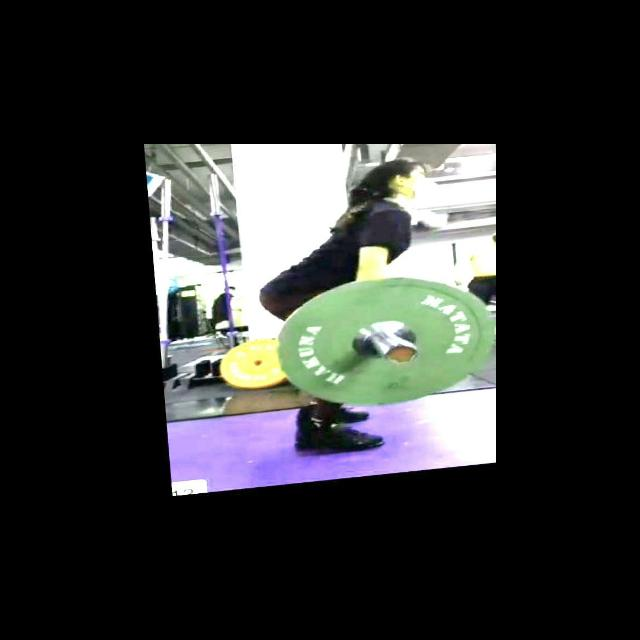barbell: (262, 269, 495, 422)
